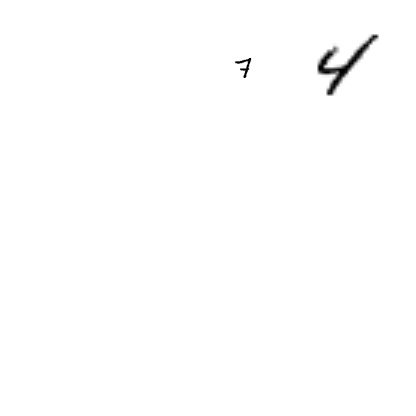3: (151, 320, 207, 376)
Pullover: (39, 61, 95, 117)
Shirt: (269, 252, 381, 364)
T-shirt/top: (161, 27, 203, 69)
